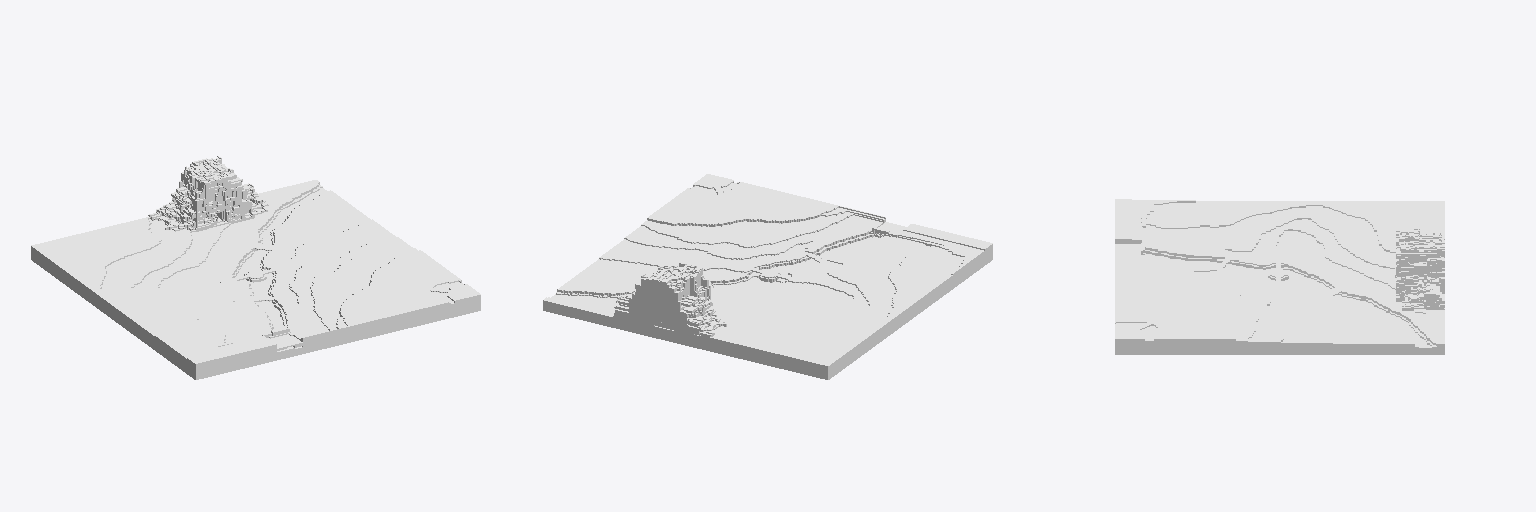
Rendered from lvl1-1-Level-2-Map.vox.obj.
3 views of the same model, side by side, from view 1: azimuth 30°, elevation 25°; view 2: azimuth 150°, elevation 25°; view 3: azimuth 270°, elevation 25° (orthographic).
Parts seen in each view (by area): view 1: Level-2-Map; view 2: Level-2-Map; view 3: Level-2-Map.
Boxes of the visible parts, x1,y1,x2,y2 form: Level-2-Map: [31, 156, 480, 379]; Level-2-Map: [543, 174, 992, 379]; Level-2-Map: [1115, 199, 1444, 354].
Size of the model in its own units: 25.6 by 5 by 25.6.